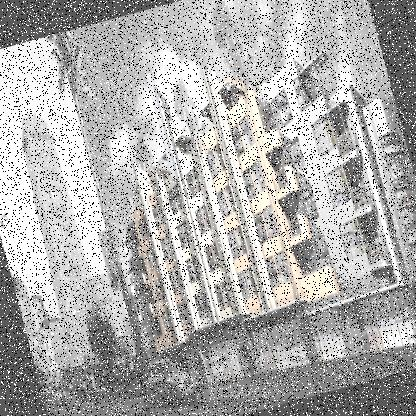Car: (139, 349, 201, 415), (69, 369, 96, 401), (48, 378, 70, 408), (38, 376, 50, 396)
